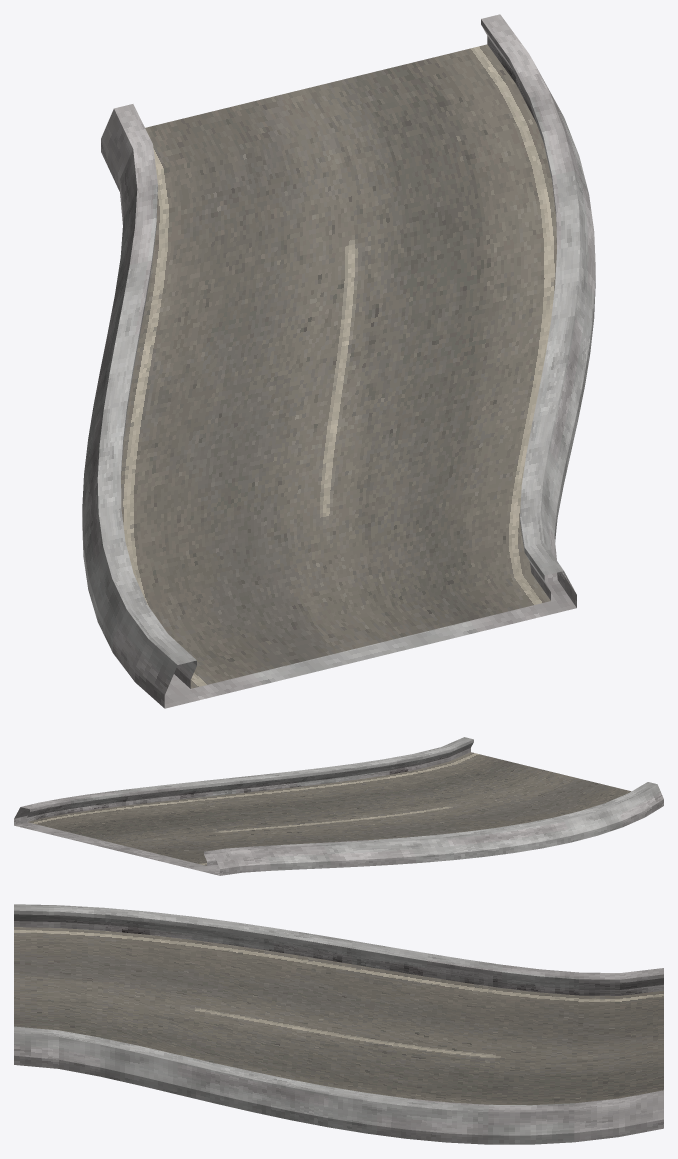
The model's file is chicane-right1x2.glb.
3 renders of one model, top to bottom at view 1: azimuth 30°, elevation 25°; view 2: azimuth 150°, elevation 25°; view 3: azimuth 270°, elevation 25°, orthographic. The views are drawn at different scales.
Visible parts, largest first — view 1: road-Chicane-Flat-BiSlopeUp-Up1-Right1-Size2; view 2: road-Chicane-Flat-BiSlopeUp-Up1-Right1-Size2; view 3: road-Chicane-Flat-BiSlopeUp-Up1-Right1-Size2.
Part boxes in pixels (box(x1,y1,x2,y2)): road-Chicane-Flat-BiSlopeUp-Up1-Right1-Size2: box(82, 14, 595, 708); road-Chicane-Flat-BiSlopeUp-Up1-Right1-Size2: box(14, 737, 663, 875); road-Chicane-Flat-BiSlopeUp-Up1-Right1-Size2: box(14, 904, 663, 1144).
Bounding box in the file's own units: 2 × 0.3438 × 2.
Materials: 2 (2 with a texture image).
